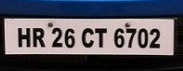0: (137, 28, 149, 48)
2: (51, 27, 65, 48), (148, 28, 162, 49)
6: (64, 28, 77, 49), (114, 28, 125, 49)
7: (125, 28, 137, 48)
C: (81, 27, 95, 49)
H: (16, 26, 32, 50)
R: (31, 27, 47, 49)
T: (94, 27, 108, 48)
